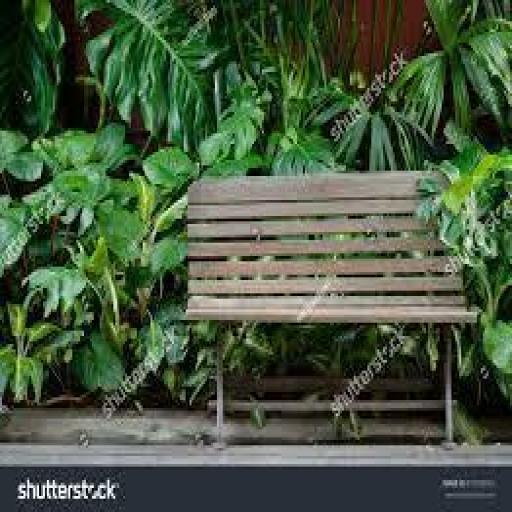chair: (175, 160, 482, 456)
